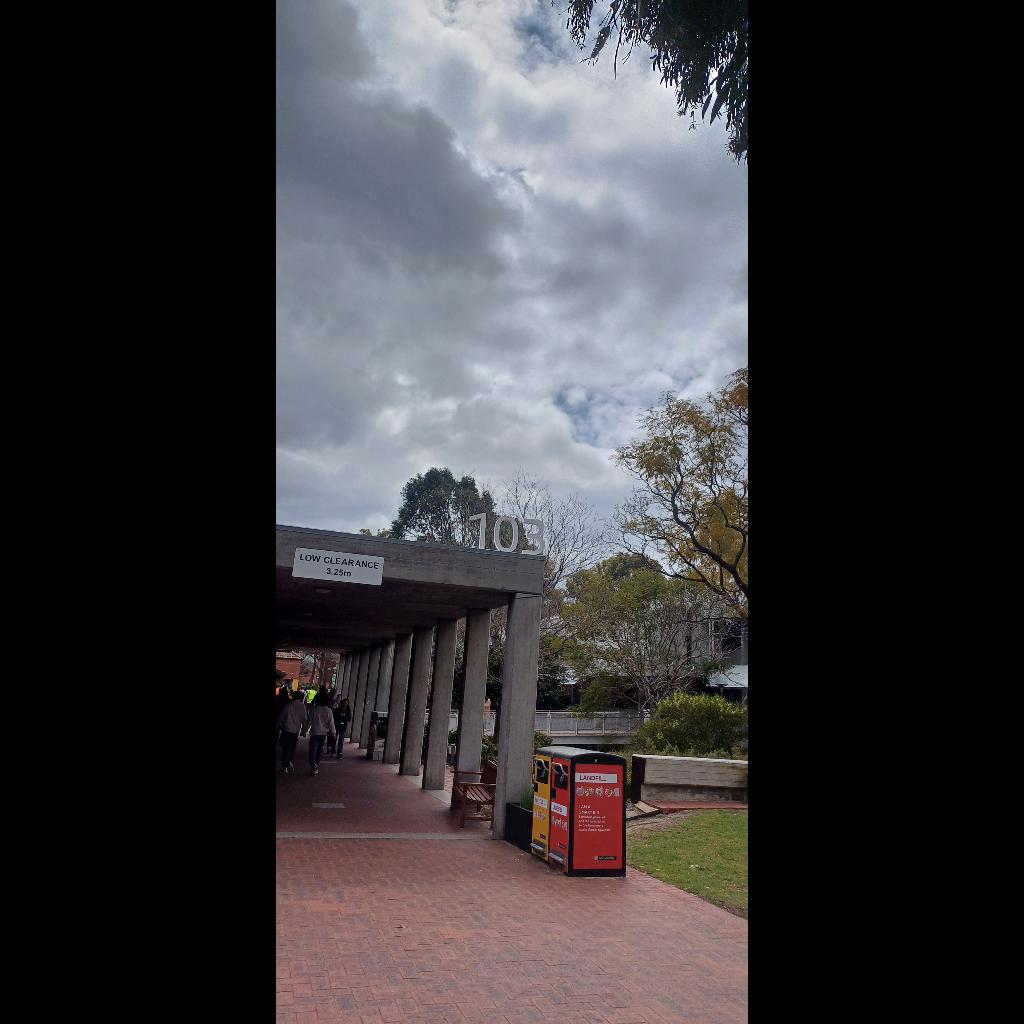BuildingCodes: (466, 510, 550, 558)
